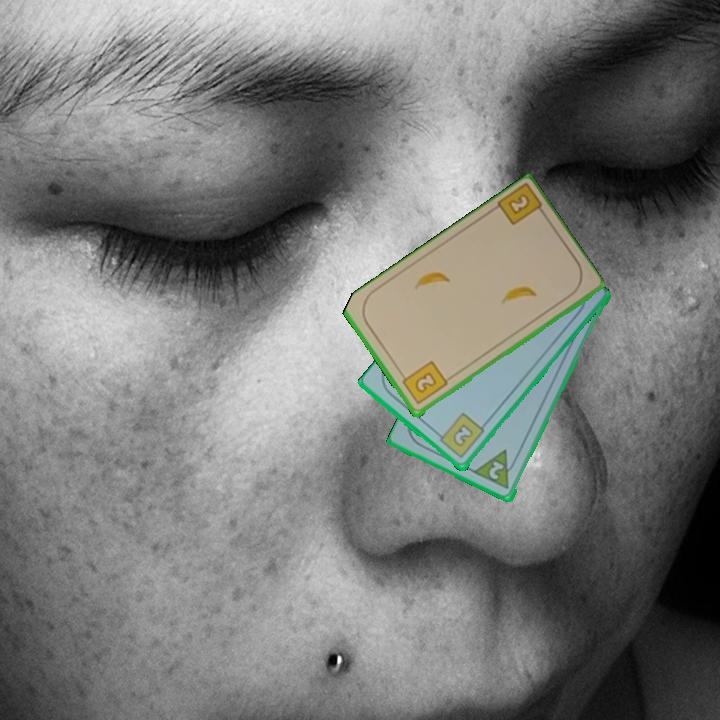2b: (433, 410, 487, 462), (493, 182, 550, 229), (397, 358, 450, 408)
2p: (485, 458, 507, 483)
